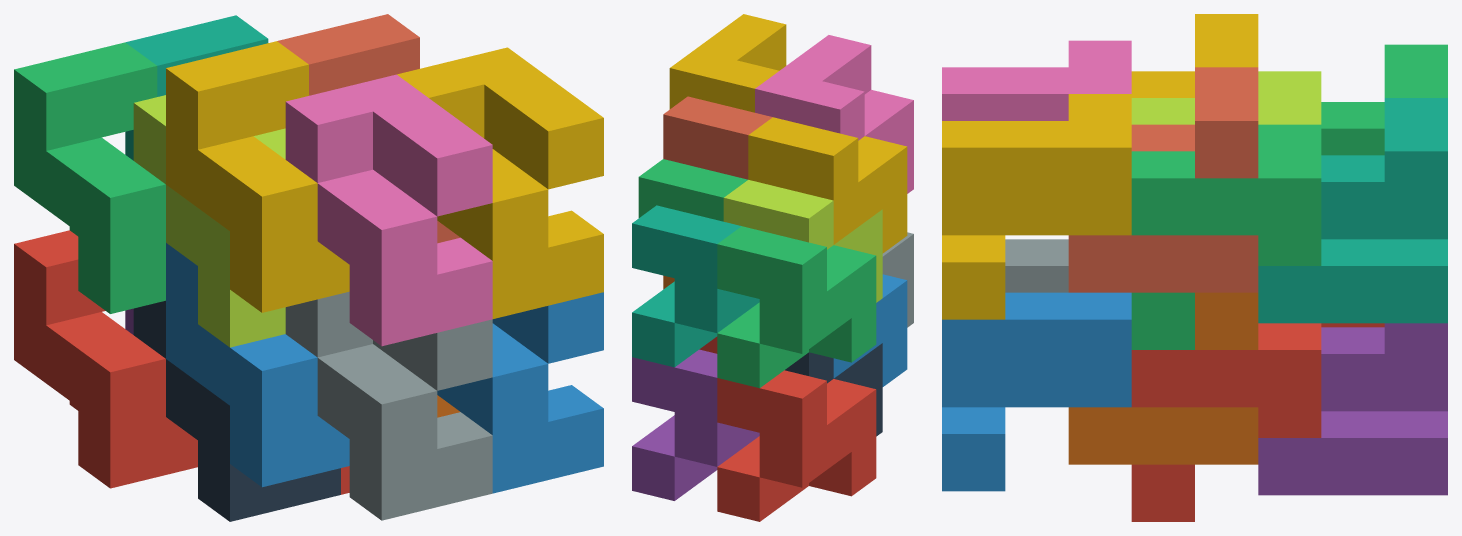
The model's file is tiling.obj.
The picture shows the model from 3 angles, left to right: view 1: azimuth 30°, elevation 25°; view 2: azimuth 150°, elevation 25°; view 3: azimuth 270°, elevation 25°; orthographic projection. The views are drawn at different scales.
Visible parts, largest first — view 1: copy_2_domain_4, copy_1_domain_4, copy_2_domain_8, copy_2_domain_2, copy_1_domain_3, copy_1_domain_1, copy_2_domain_6, copy_1_domain_2, copy_2_domain_3, copy_2_domain_1, copy_1_domain_8, copy_1_domain_7; view 2: copy_1_domain_3, copy_1_domain_1, copy_1_domain_4, copy_1_domain_7, copy_1_domain_5, copy_2_domain_4, copy_2_domain_8, copy_2_domain_3, copy_1_domain_8, copy_2_domain_7, copy_1_domain_2, copy_2_domain_1 (+1 smaller); view 3: copy_2_domain_8, copy_1_domain_7, copy_2_domain_6, copy_1_domain_5, copy_2_domain_7, copy_1_domain_8, copy_2_domain_5, copy_1_domain_6, copy_2_domain_4, copy_1_domain_3, copy_2_domain_3, copy_1_domain_4 (+1 smaller).
Boxes of the visible parts, x1,y1,x2,y2 form: copy_2_domain_4: [285, 74, 492, 346]; copy_1_domain_4: [166, 41, 349, 312]; copy_2_domain_8: [397, 47, 603, 318]; copy_2_domain_2: [285, 291, 492, 520]; copy_1_domain_3: [14, 42, 165, 313]; copy_1_domain_1: [14, 230, 197, 488]; copy_2_domain_6: [437, 292, 603, 493]; copy_1_domain_2: [166, 243, 349, 487]; copy_2_domain_3: [133, 95, 285, 347]; copy_2_domain_1: [133, 300, 340, 521]; copy_1_domain_8: [277, 14, 459, 243]; copy_1_domain_7: [125, 15, 268, 160]; copy_1_domain_3: [717, 226, 876, 388]; copy_1_domain_1: [717, 370, 876, 521]; copy_1_domain_4: [748, 117, 907, 253]; copy_1_domain_7: [632, 205, 759, 367]; copy_1_domain_5: [632, 349, 759, 500]; copy_2_domain_4: [755, 35, 913, 193]; copy_2_domain_8: [669, 14, 786, 112]; copy_2_domain_3: [723, 180, 882, 302]; copy_1_domain_8: [663, 96, 772, 179]; copy_2_domain_7: [638, 159, 747, 221]; copy_1_domain_2: [833, 274, 907, 386]; copy_2_domain_1: [785, 343, 882, 436]; copy_2_domain_8: [942, 94, 1131, 319]; copy_1_domain_7: [1258, 98, 1447, 323]; copy_2_domain_6: [942, 292, 1131, 491]; copy_1_domain_5: [1258, 323, 1447, 495]; copy_2_domain_7: [1131, 124, 1321, 349]; copy_1_domain_8: [1068, 67, 1258, 292]; copy_2_domain_5: [1131, 323, 1321, 521]; copy_1_domain_6: [1068, 292, 1258, 464]; copy_2_domain_4: [942, 40, 1131, 120]; copy_1_domain_3: [1321, 44, 1447, 155]; copy_2_domain_3: [1131, 71, 1321, 124]; copy_1_domain_4: [1131, 14, 1258, 97].
Bounding box in the file's own units: 6 × 7 × 8.
